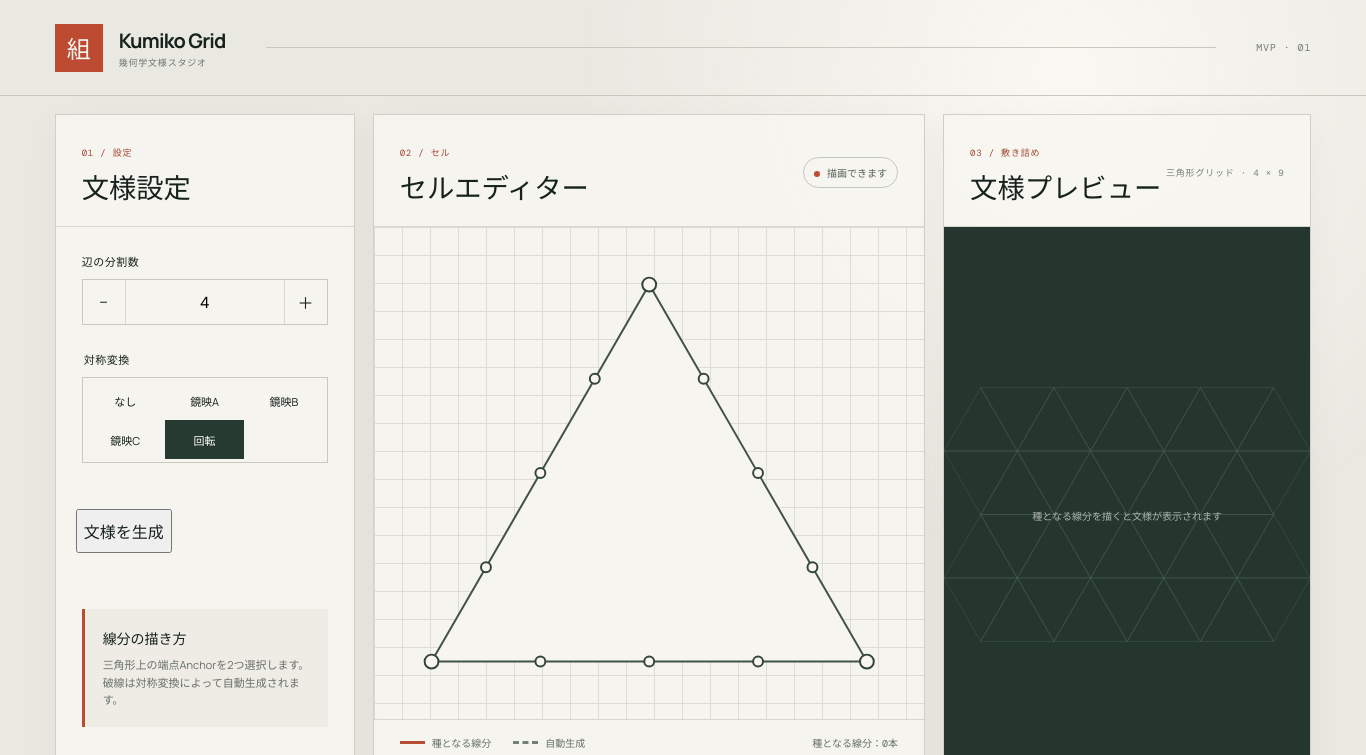
鏡映軸の変更拒否で実際の軸を表示し鏡映設定の再選択で軸を変えない
The width and height of the screenshot is (1366, 755).
Click the button "鏡映B" at (284, 400), box [244, 381, 324, 420]
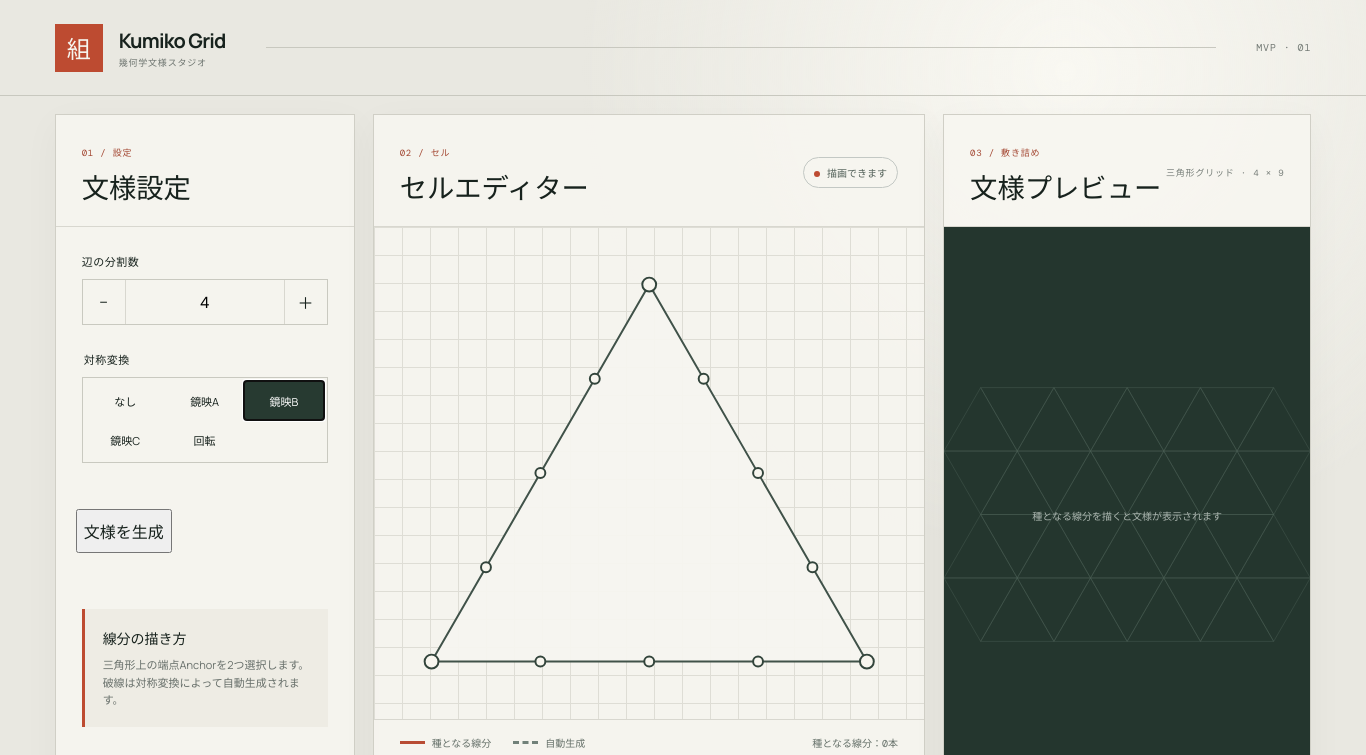
Press Enter in the field labelled "頂点B", box [420, 651, 442, 672]
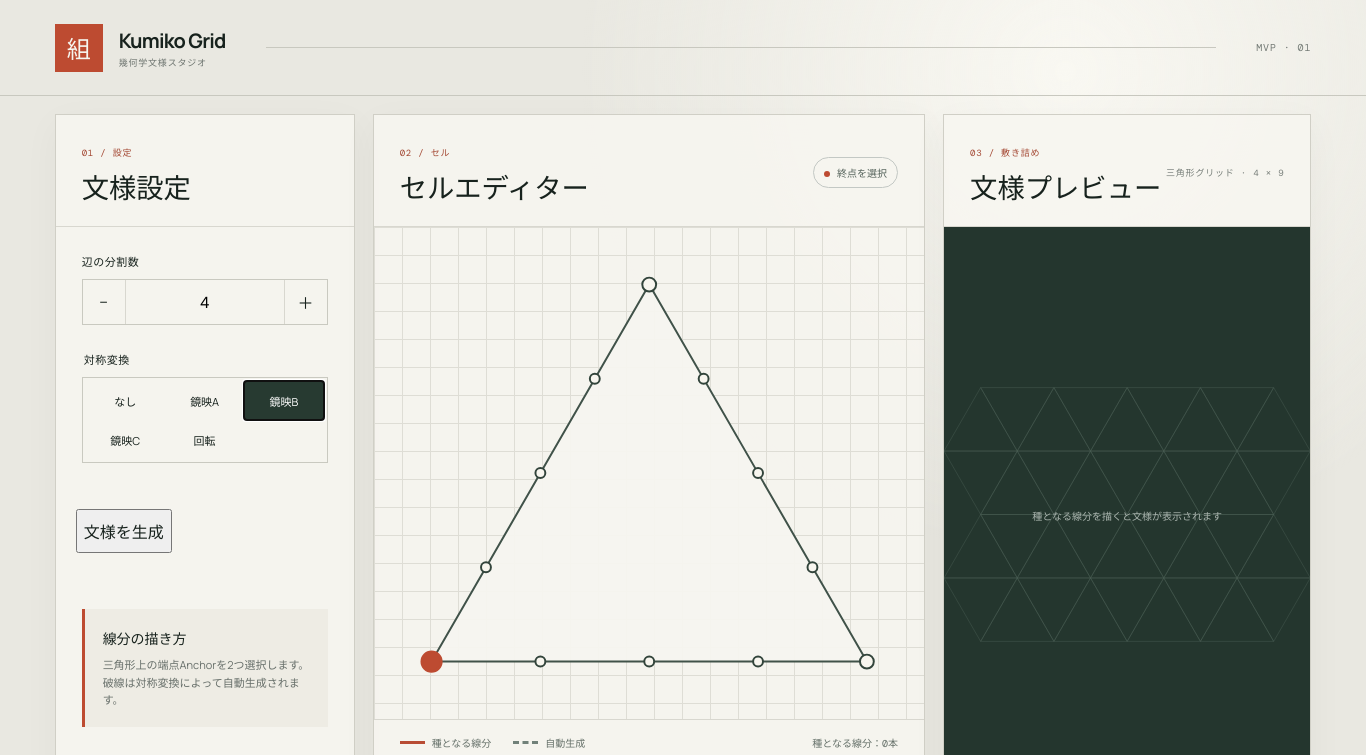
Press Enter in the field labelled "BC辺を4等分した3番目の点", box [747, 651, 769, 672]
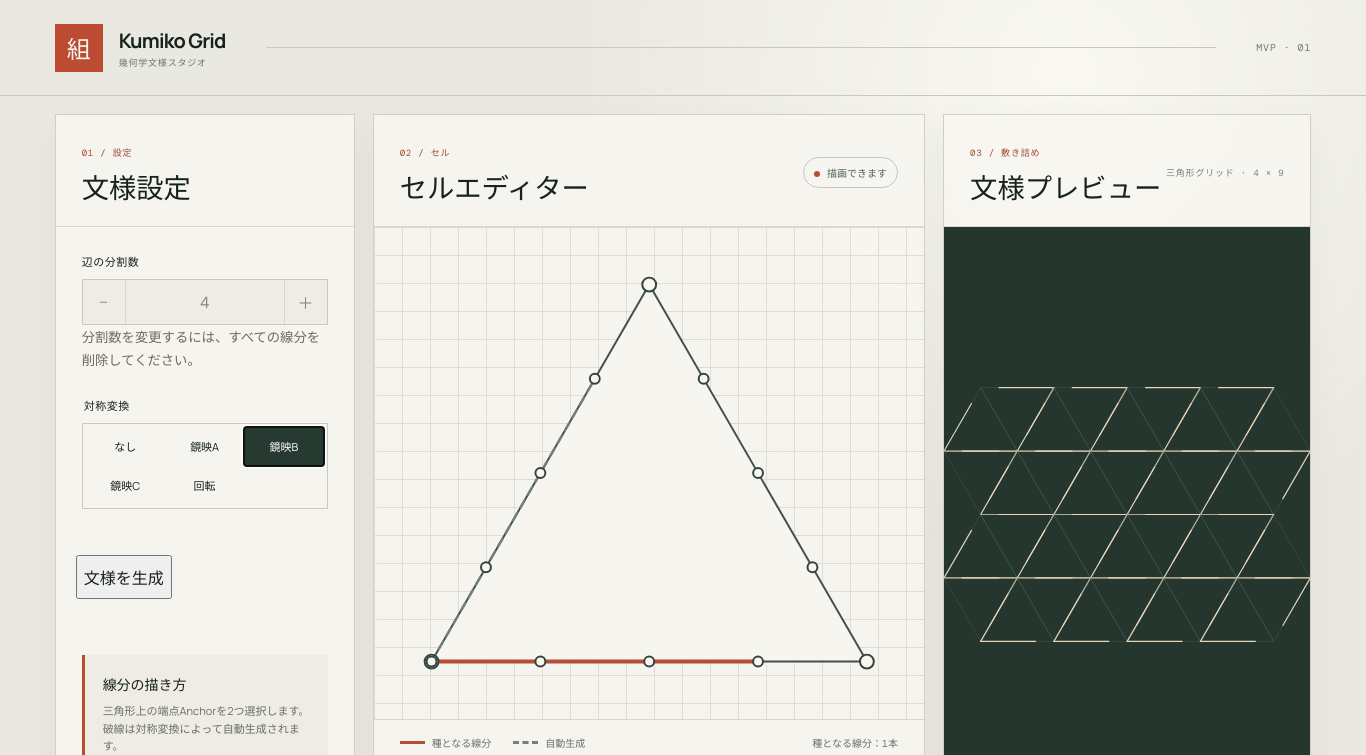
Expected: the text "種となる線分：1本" is shown, [812, 735, 898, 750]
Click the button "鏡映A" at (205, 446), box [165, 427, 244, 466]
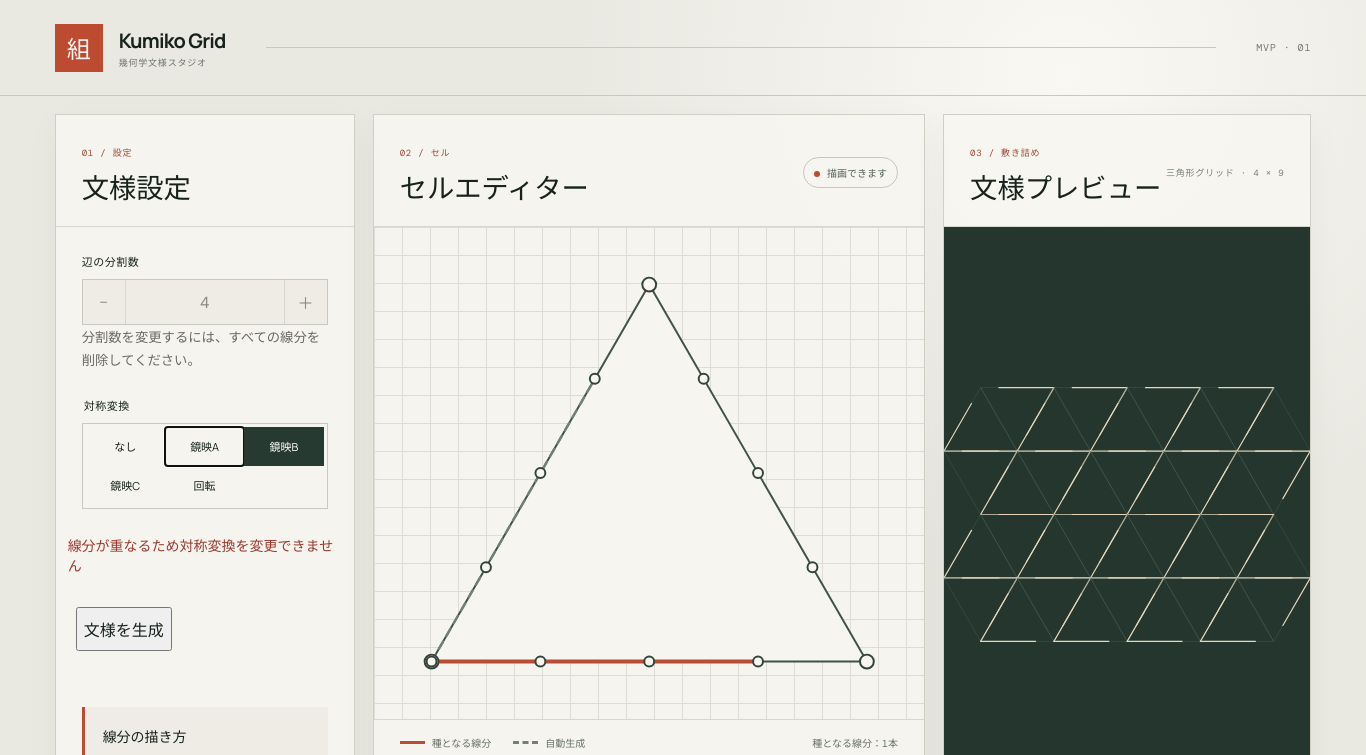
Expected: the text "線分が重なるため対称変換を変更できません" is shown, [68, 535, 342, 575]
Click the button "鏡映B" at (284, 446), box [244, 427, 324, 466]
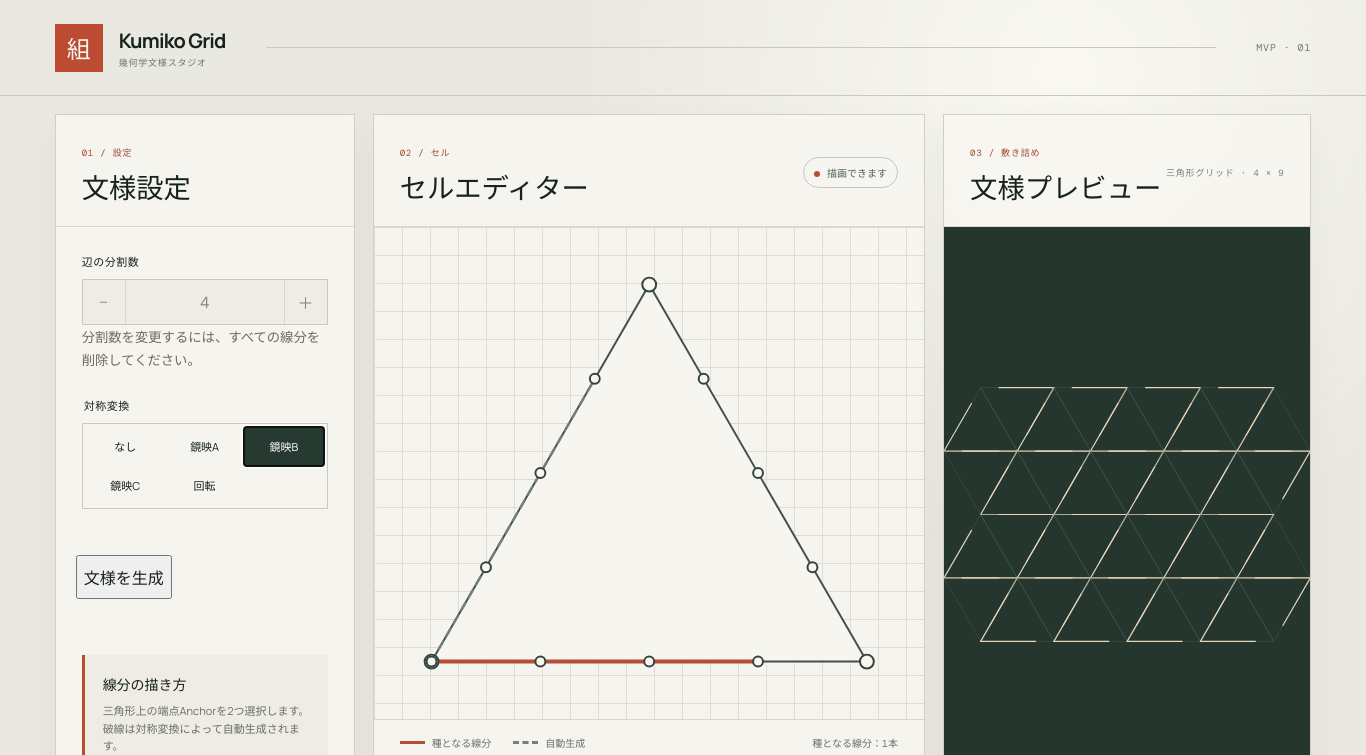
Expected: the text "線分が重なるため対称変換を変更できません" is gone
